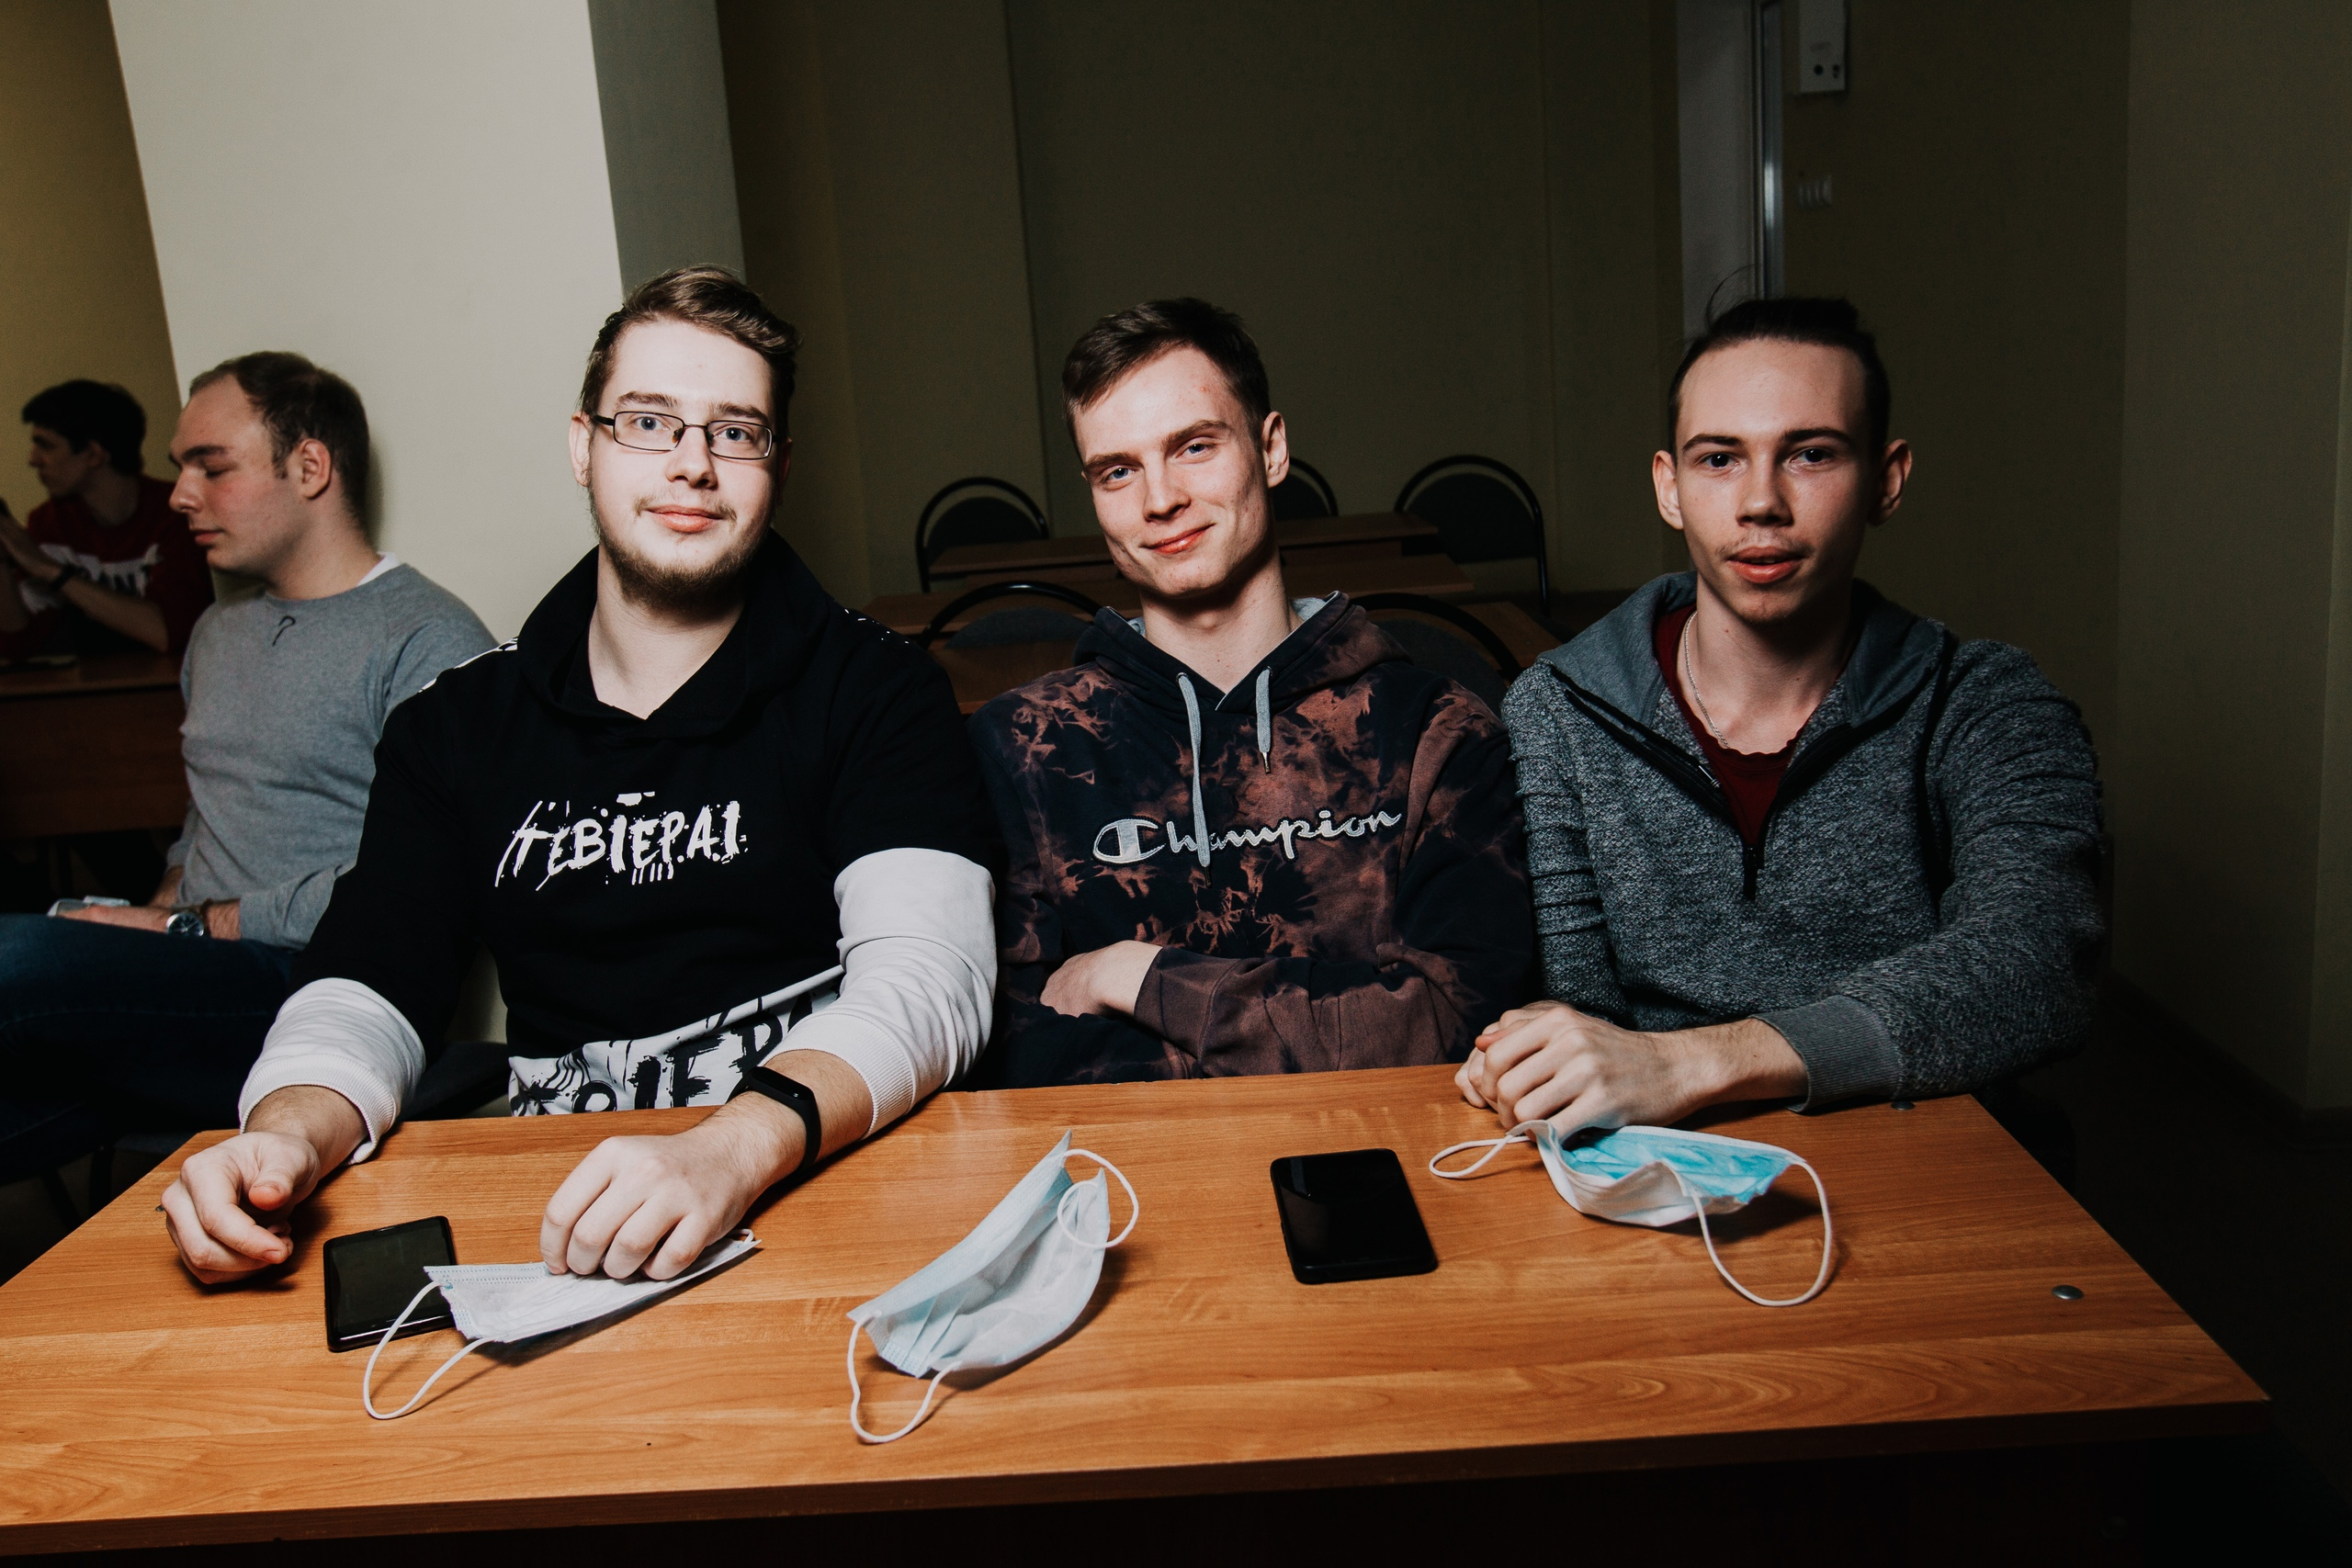students: (161, 271, 996, 1290), (1455, 289, 2108, 1135), (11, 349, 511, 1235), (1002, 298, 1524, 1077), (16, 370, 219, 836)
